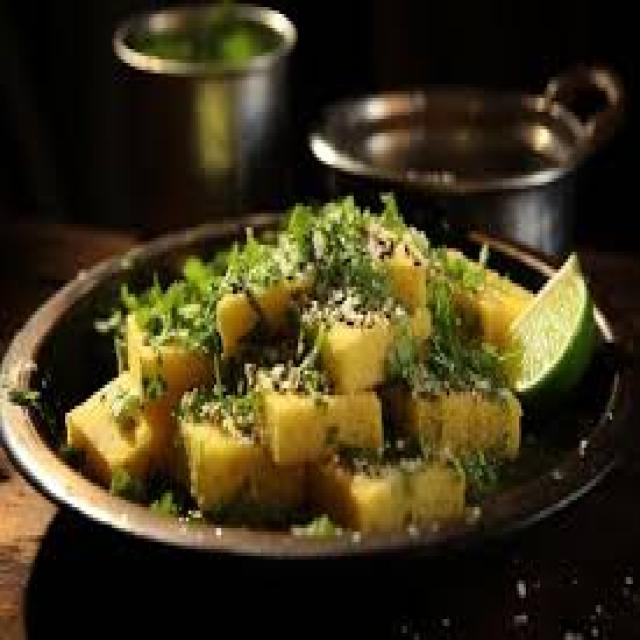DHOKLA: (121, 299, 223, 476), (300, 229, 428, 349), (387, 359, 523, 471), (218, 245, 334, 368), (307, 444, 466, 532), (241, 359, 384, 455), (173, 400, 296, 506), (303, 291, 420, 393), (67, 373, 158, 488), (435, 255, 524, 365)
